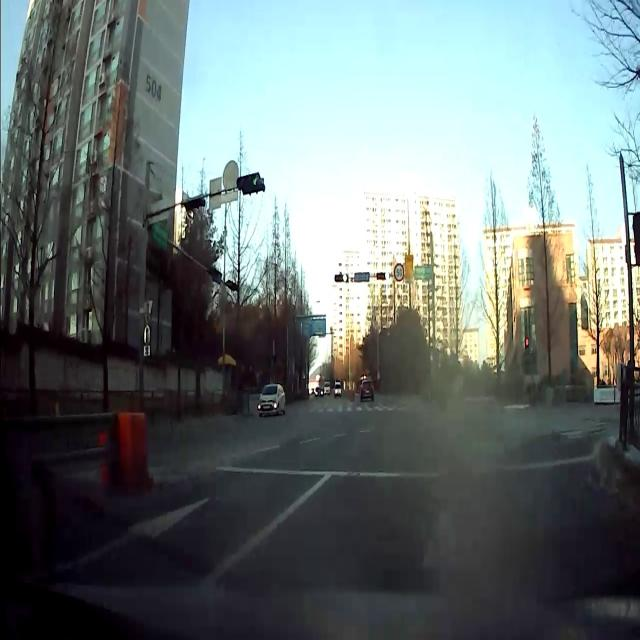Green Light: (341, 270, 348, 282), (384, 271, 390, 281)
